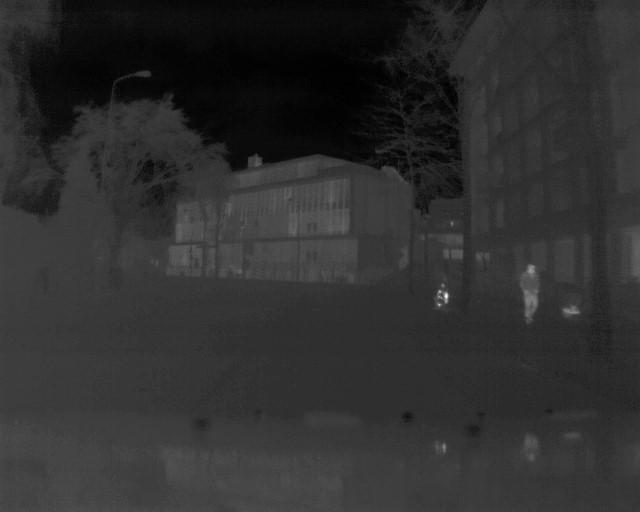person: (521, 261, 541, 325)
